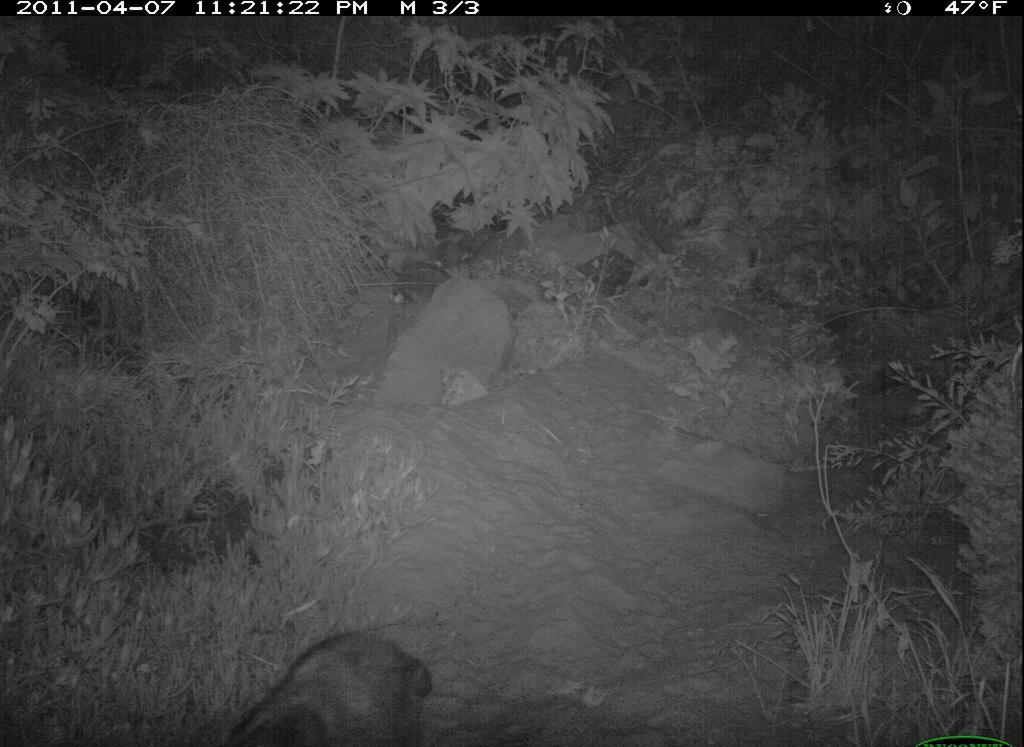raccoon: (209, 624, 441, 747)
